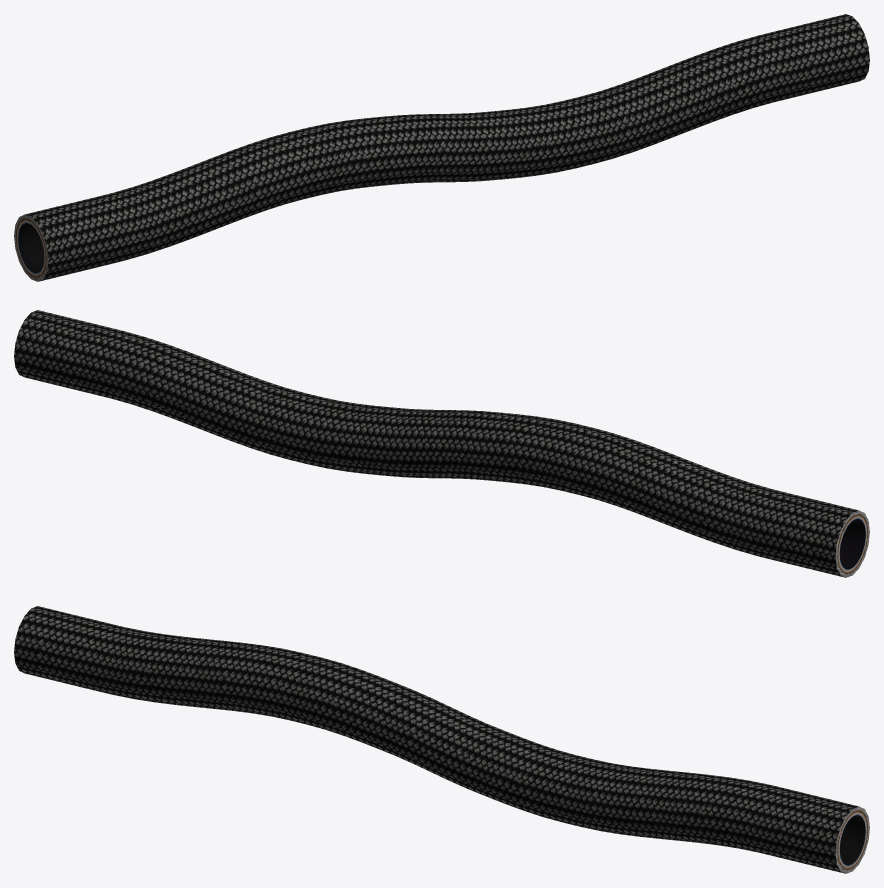
3 views of the same model, one above another, from view 1: azimuth 30°, elevation 25°; view 2: azimuth 150°, elevation 25°; view 3: azimuth 330°, elevation 25° (orthographic).
Visible parts, largest first — view 1: Polyester_Braid-12; view 2: Polyester_Braid-12; view 3: Polyester_Braid-12.
Boxes of the visible parts, <box> form: Polyester_Braid-12: <box>14,14,869,281</box>; Polyester_Braid-12: <box>14,310,869,577</box>; Polyester_Braid-12: <box>14,606,869,873</box>.
Size of the model in its own units: 0.3074 by 0.0351 by 0.0224.
Materials: 2 (2 with a texture image).
